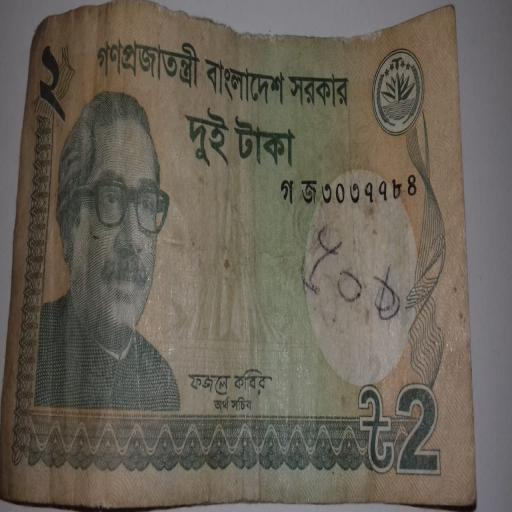2taka: (0, 1, 475, 507)
